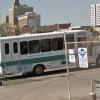Bus: (1, 25, 93, 76)
